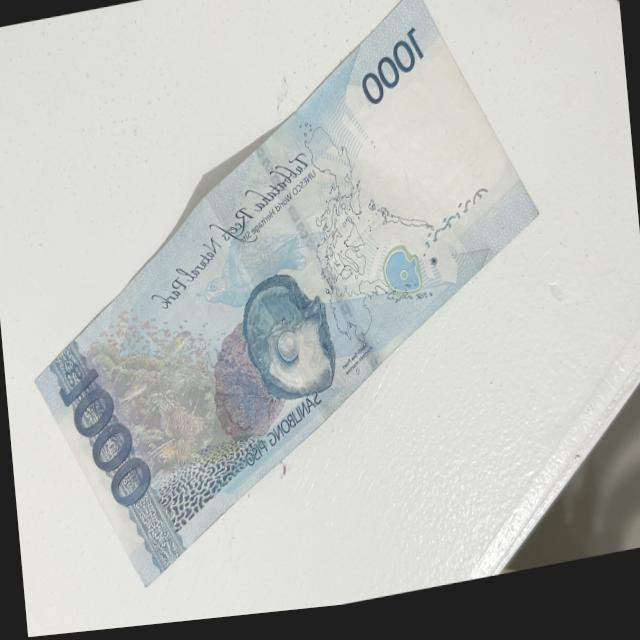1000_pearl: (238, 279, 333, 406)
1000_pearl_watermark: (378, 249, 420, 305)
